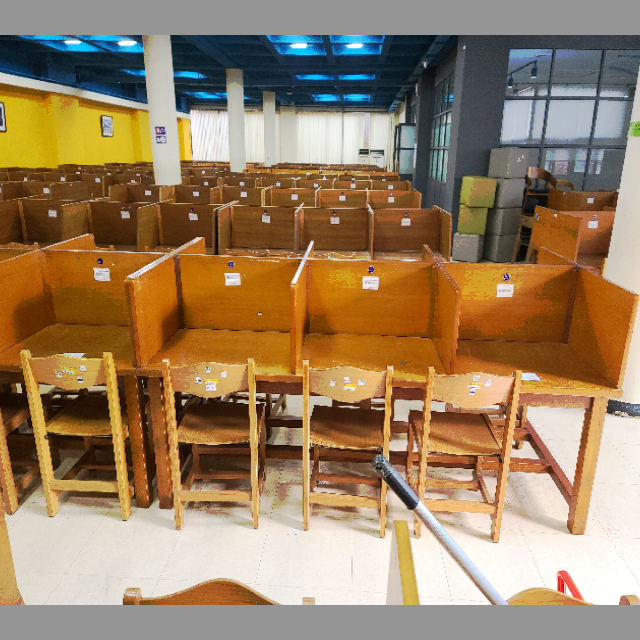empty: (463, 259, 638, 459), (297, 254, 455, 444), (136, 257, 293, 445)
